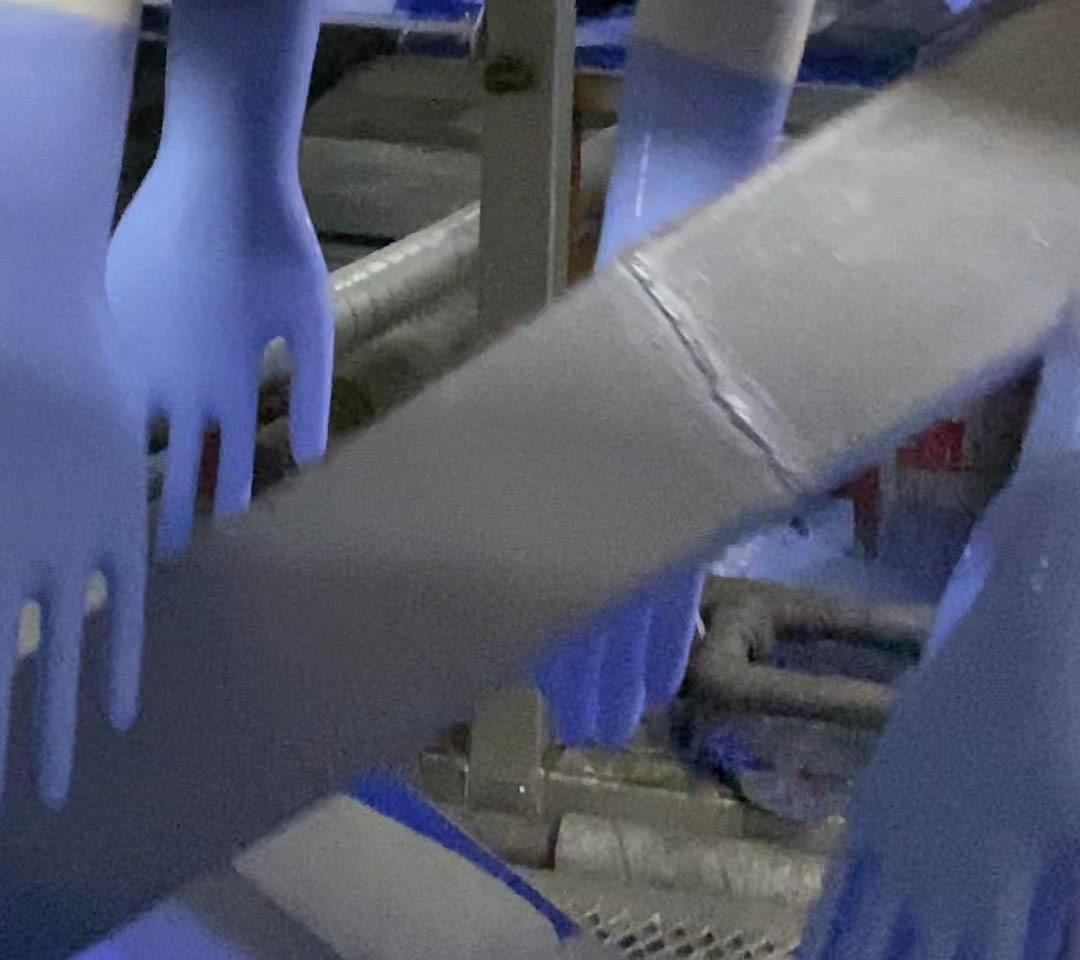glove: (105, 1, 332, 568), (1, 1, 147, 809)
